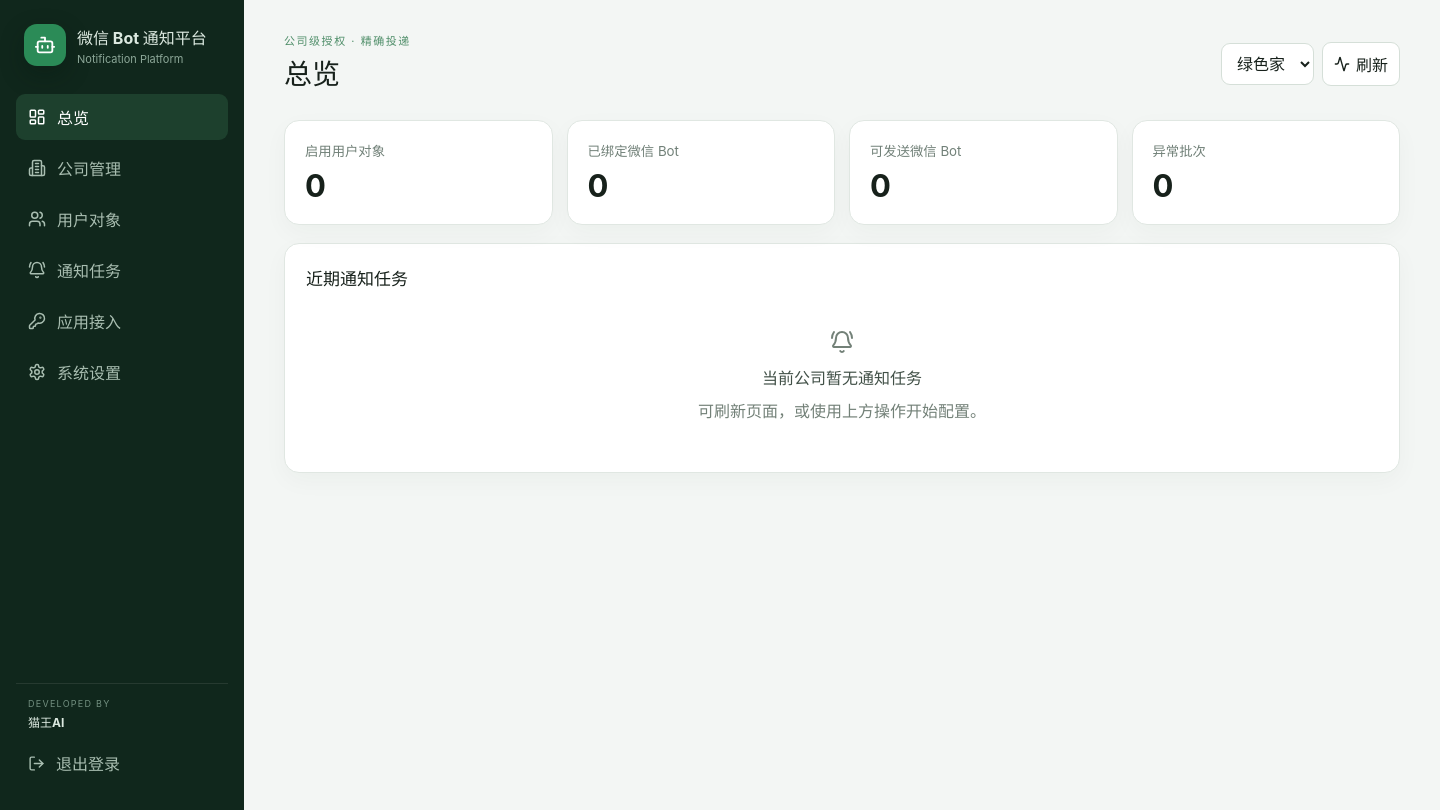
Test case: GeneralPlatformApp temporary workflow safety › clears all tenant data on explicit logout
Click the button "退出登录".
click(122, 763)  # box [16,740,228,786]
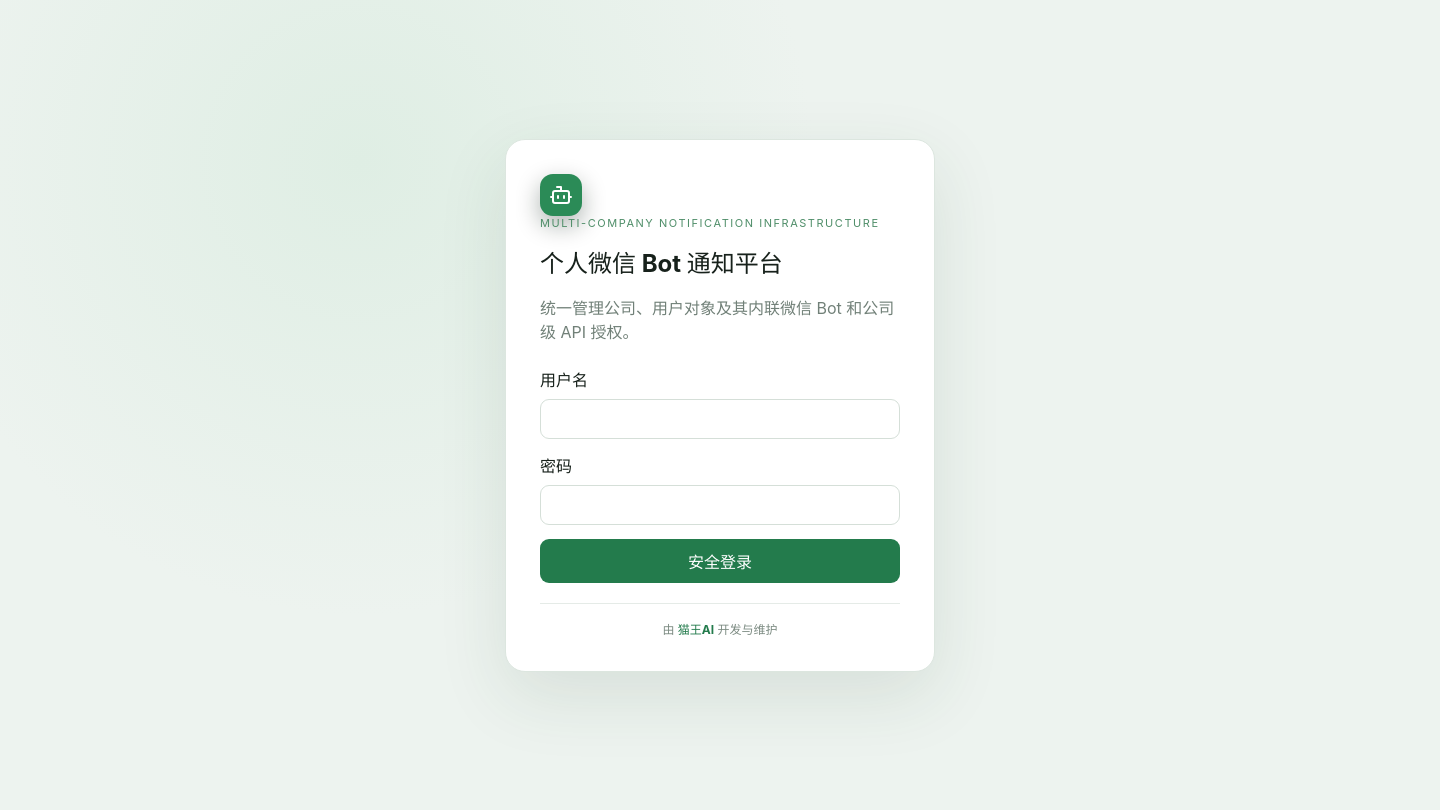
Expected: the text "绿色家" is not shown
Expected: the button "安全登录" is shown, [540,538,900,582]
